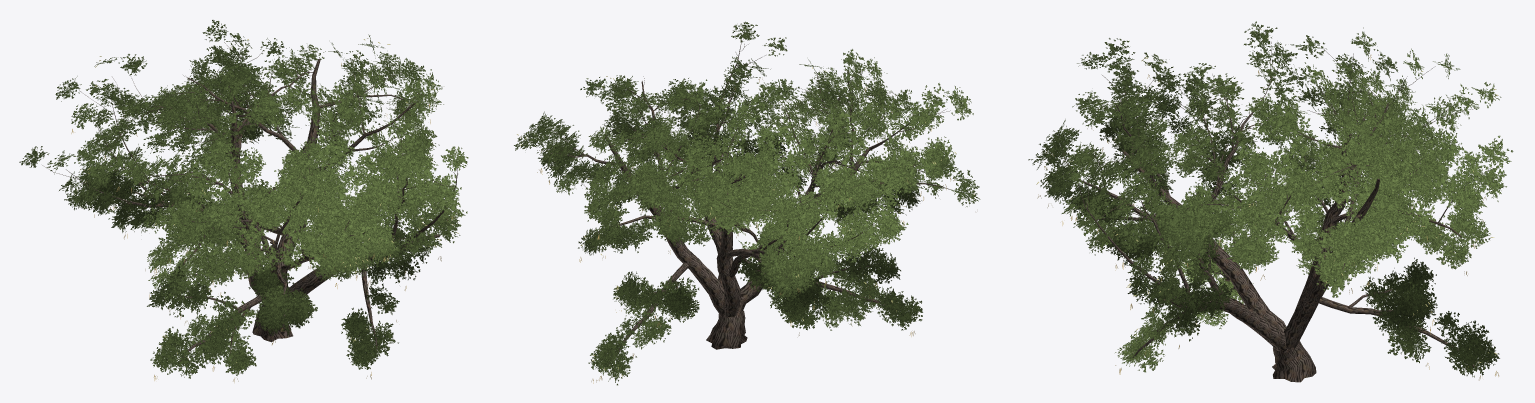
The model's file is old-b.lod0.glb.
3 renders of one model, left to right at view 1: azimuth 30°, elevation 25°; view 2: azimuth 150°, elevation 25°; view 3: azimuth 270°, elevation 25°, orthographic. The views are drawn at different scales.
Visible parts, largest first — view 1: foliage, bark, fruit; view 2: foliage, bark; view 3: foliage, bark.
Boxes of the visible parts, box(x1,y1,x2,y2) form: foliage: box(19, 20, 468, 378); bark: box(42, 42, 457, 362); fruit: box(71, 63, 454, 382); foliage: box(514, 21, 980, 385); bark: box(537, 39, 950, 365); foliage: box(1028, 21, 1513, 377); bark: box(1059, 42, 1491, 382).
Bounding box in the file's own units: 15.2 × 9.5 × 15.43.
Materials: 5 (2 with a texture image).
